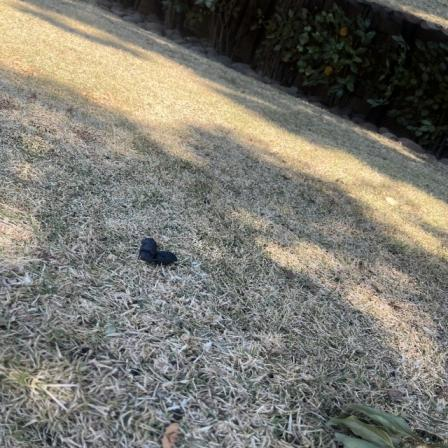dog-poop: (134, 230, 180, 275)
